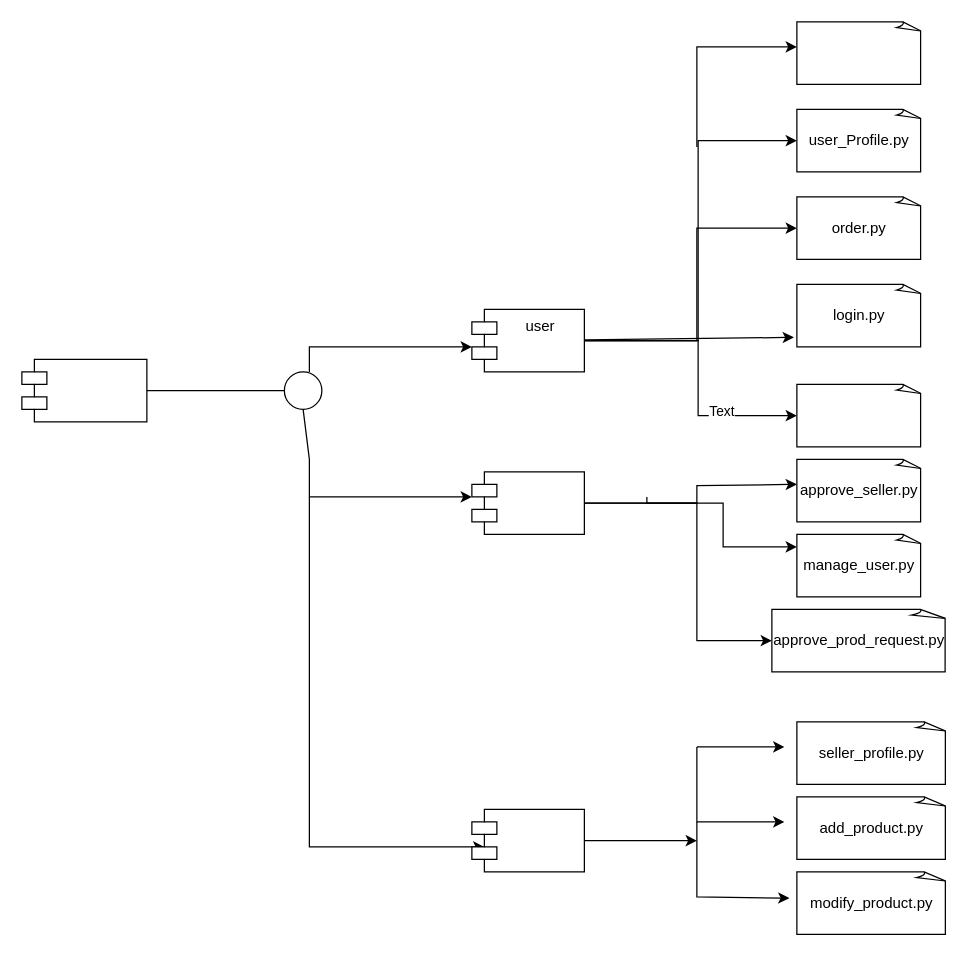
The diagram is 969 pixels wide and 956 high, and some of its shapes have lost their labels. The shapes that lost their labels are listed below. From the top down, each one's centre as x and y in pixels, then its label:
(x=859, y=52): Add_post.py
(x=84, y=390): AQUEON
(x=859, y=415): cart.py
(x=527, y=502): Admin
(x=527, y=840): seller
